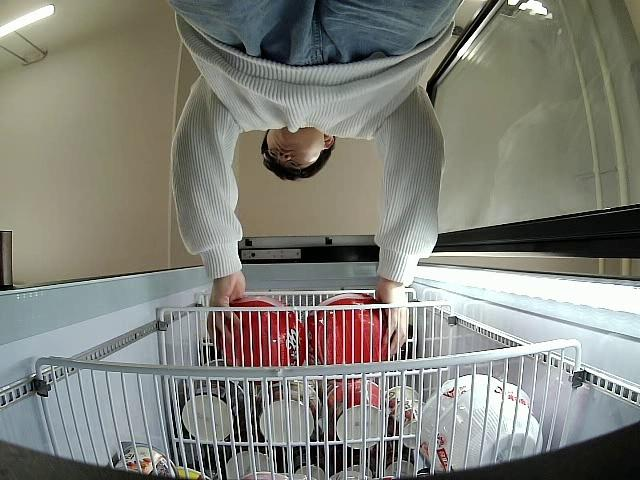00_hand: (376, 278, 410, 351), (210, 275, 243, 337)
10_wangTtukkeong: (220, 295, 305, 367), (309, 293, 392, 364)
